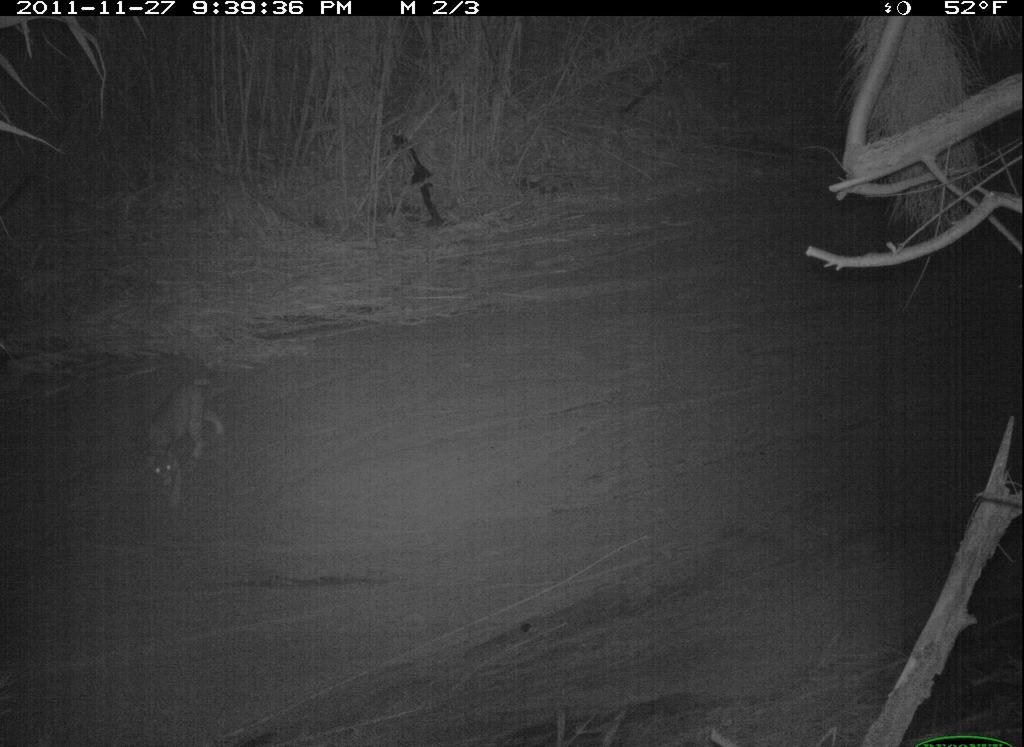bobcat: (134, 360, 231, 506)
